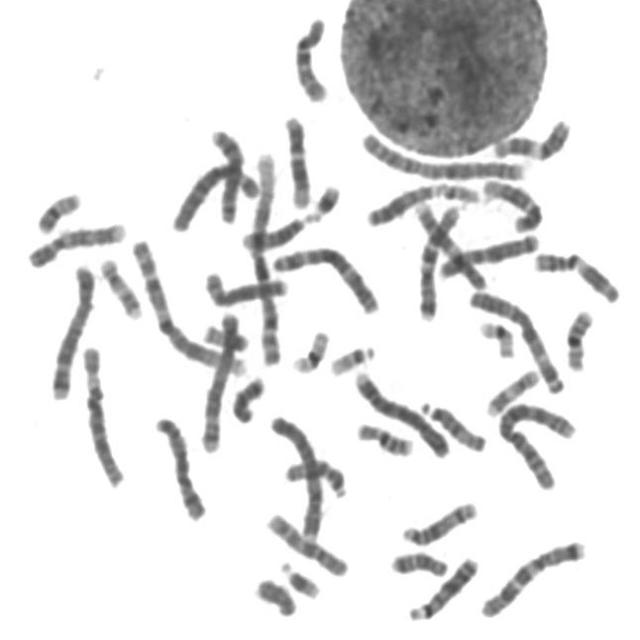A1: (125, 230, 254, 377), (246, 146, 286, 368)
A2: (354, 123, 529, 183), (492, 392, 582, 492)
A3: (464, 281, 568, 396), (266, 237, 384, 316)
B4: (348, 362, 454, 460), (263, 406, 328, 543)
B5: (194, 304, 247, 455), (45, 256, 99, 401)
C10: (260, 505, 352, 579), (287, 8, 333, 104)
C11: (528, 243, 624, 305), (488, 111, 574, 162)
C12: (476, 170, 547, 233), (279, 108, 315, 210)
C6: (75, 337, 130, 489), (165, 154, 262, 234)
C7: (474, 532, 590, 620), (410, 196, 466, 322)
C8: (204, 121, 248, 225), (199, 263, 292, 310)
C9: (410, 194, 492, 292), (23, 213, 129, 270)
D13: (403, 549, 483, 622), (360, 176, 448, 227)
D14: (398, 493, 482, 547), (237, 205, 320, 253)
D15: (415, 392, 491, 454), (280, 452, 352, 500)
E16: (351, 414, 418, 458), (560, 301, 597, 373)
E17: (480, 360, 544, 419), (94, 250, 146, 321)
E18: (385, 543, 452, 579), (226, 368, 268, 424)
F19: (286, 322, 333, 375), (473, 312, 520, 360)
F20: (31, 184, 85, 236), (197, 316, 254, 352)
G21: (275, 553, 325, 601), (302, 175, 345, 223)
G22: (325, 336, 379, 377), (430, 175, 483, 205)
X: (149, 409, 210, 523), (433, 224, 544, 281)
Y: (250, 569, 300, 618)
